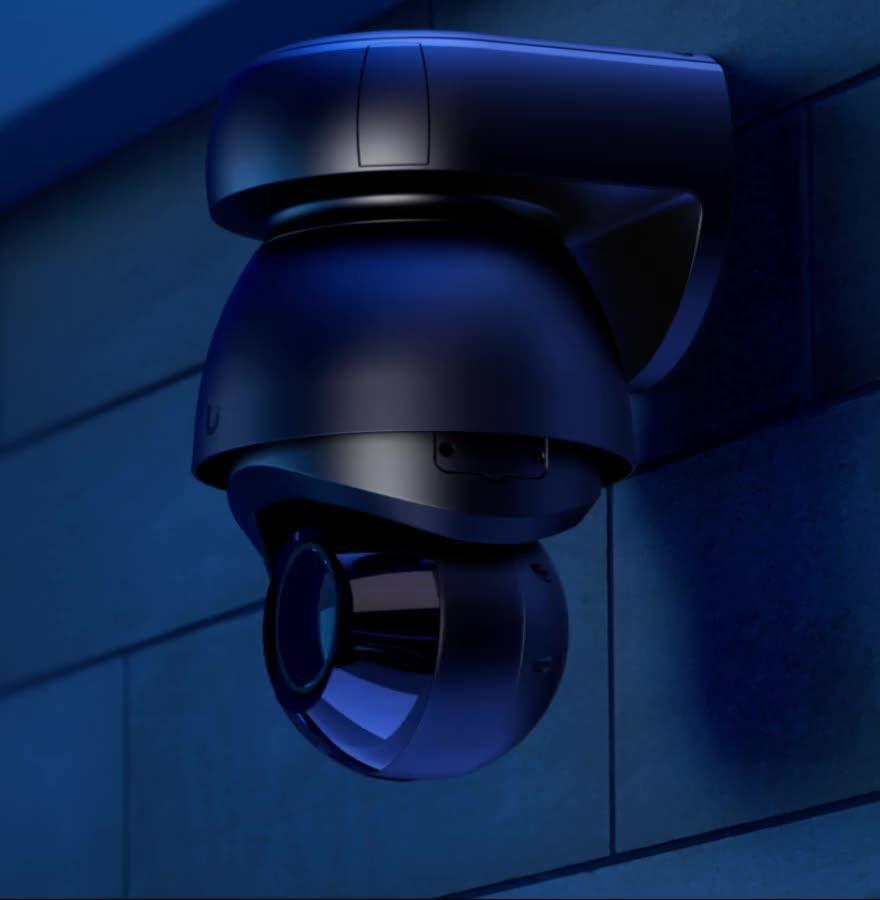camera: (140, 20, 775, 803)
